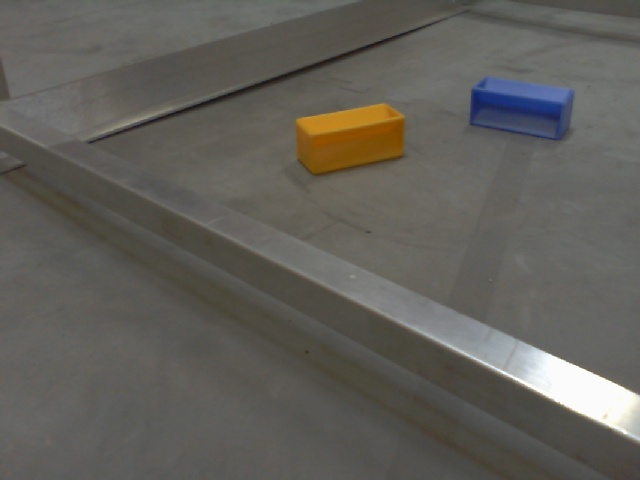BlueSample: (466, 73, 576, 145)
YellowSample: (290, 101, 411, 172)
